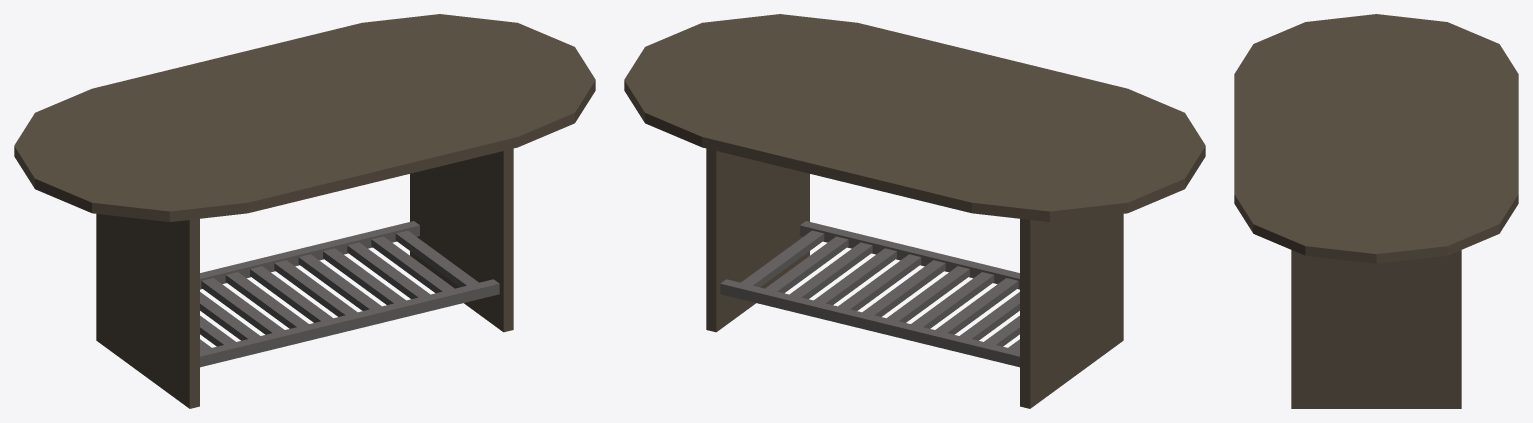
File: SM_Props_Interior_House_Room_Coffee_Table_01.fbx
3 renders of one model, left to right at view 1: azimuth 30°, elevation 25°; view 2: azimuth 150°, elevation 25°; view 3: azimuth 270°, elevation 25°, orthographic. The views are drawn at different scales.
Visible parts, largest first — view 1: SM_Props_Interior_House_Room_Coffee_Table_01; view 2: SM_Props_Interior_House_Room_Coffee_Table_01; view 3: SM_Props_Interior_House_Room_Coffee_Table_01.
Boxes of the visible parts, left/top/right/bottom form: SM_Props_Interior_House_Room_Coffee_Table_01: left=14, top=14, right=595, bottom=408; SM_Props_Interior_House_Room_Coffee_Table_01: left=624, top=14, right=1205, bottom=408; SM_Props_Interior_House_Room_Coffee_Table_01: left=1234, top=14, right=1518, bottom=408.
Size of the model in its own units: 80 by 31.5 by 40.
